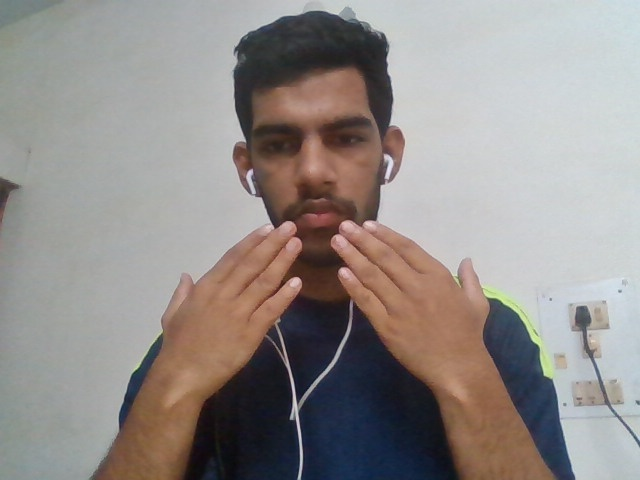thanks: (144, 218, 516, 371)
